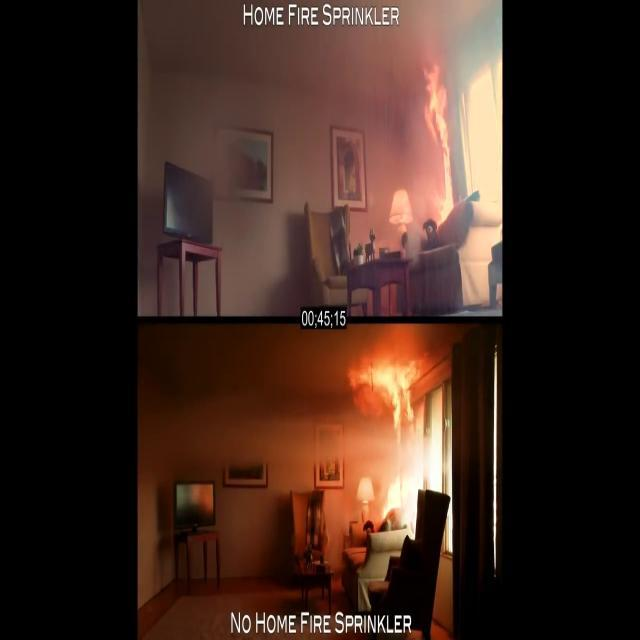Fire: (342, 347, 452, 529), (422, 59, 457, 227)
